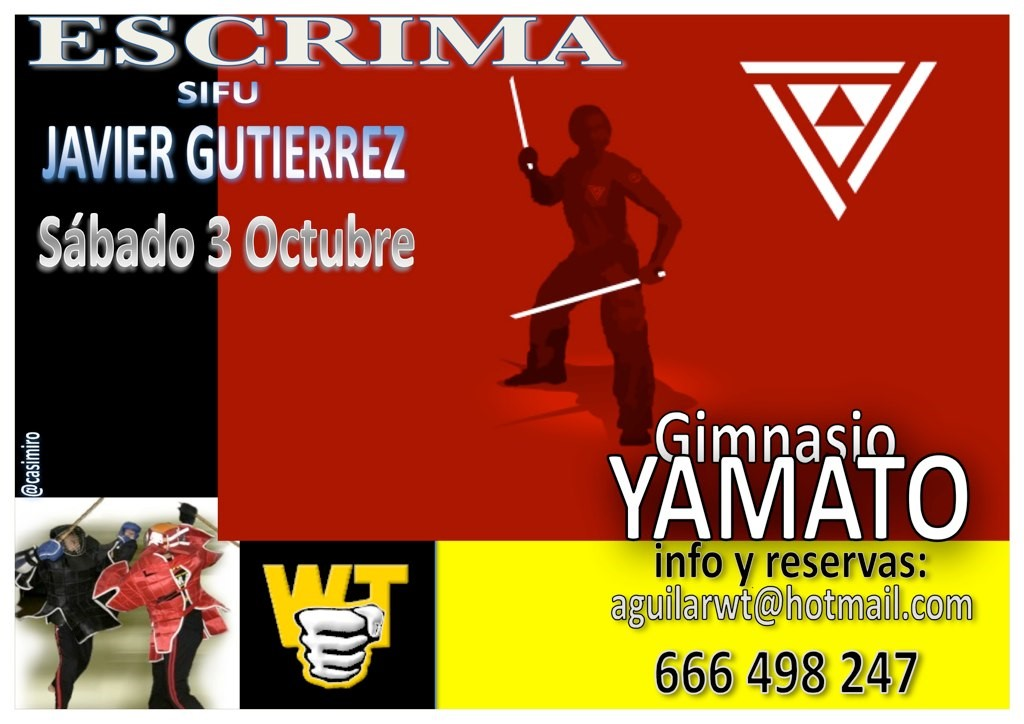baston_e: (521, 276, 638, 317), (509, 86, 534, 165), (58, 498, 98, 543), (194, 511, 238, 547)
baston_v: (507, 311, 519, 322), (506, 75, 516, 88), (658, 268, 669, 278), (526, 162, 536, 171), (98, 496, 105, 503)
